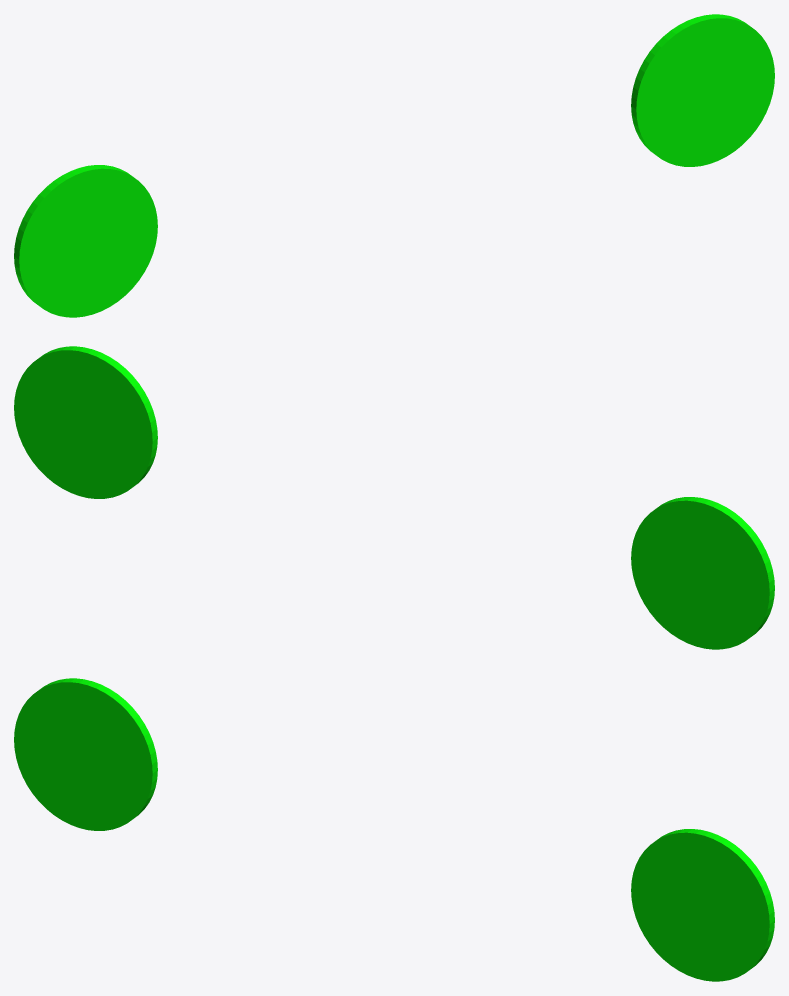
File: regional_membrane_settings_Pump2.valve_membrane.glb
The picture shows the model from 3 angles, top to bottom: view 1: azimuth 30°, elevation 25°; view 2: azimuth 150°, elevation 25°; view 3: azimuth 330°, elevation 25°; orthographic projection.
Visible parts, largest first — view 1: world; view 2: world; view 3: world.
Boxes of the visible parts, x1,y1,x2,y2 form: world: [14, 14, 774, 317]; world: [14, 346, 774, 649]; world: [14, 678, 774, 981].
Bounding box in the file's own units: 0.8284 × 0.1517 × 0.01.
